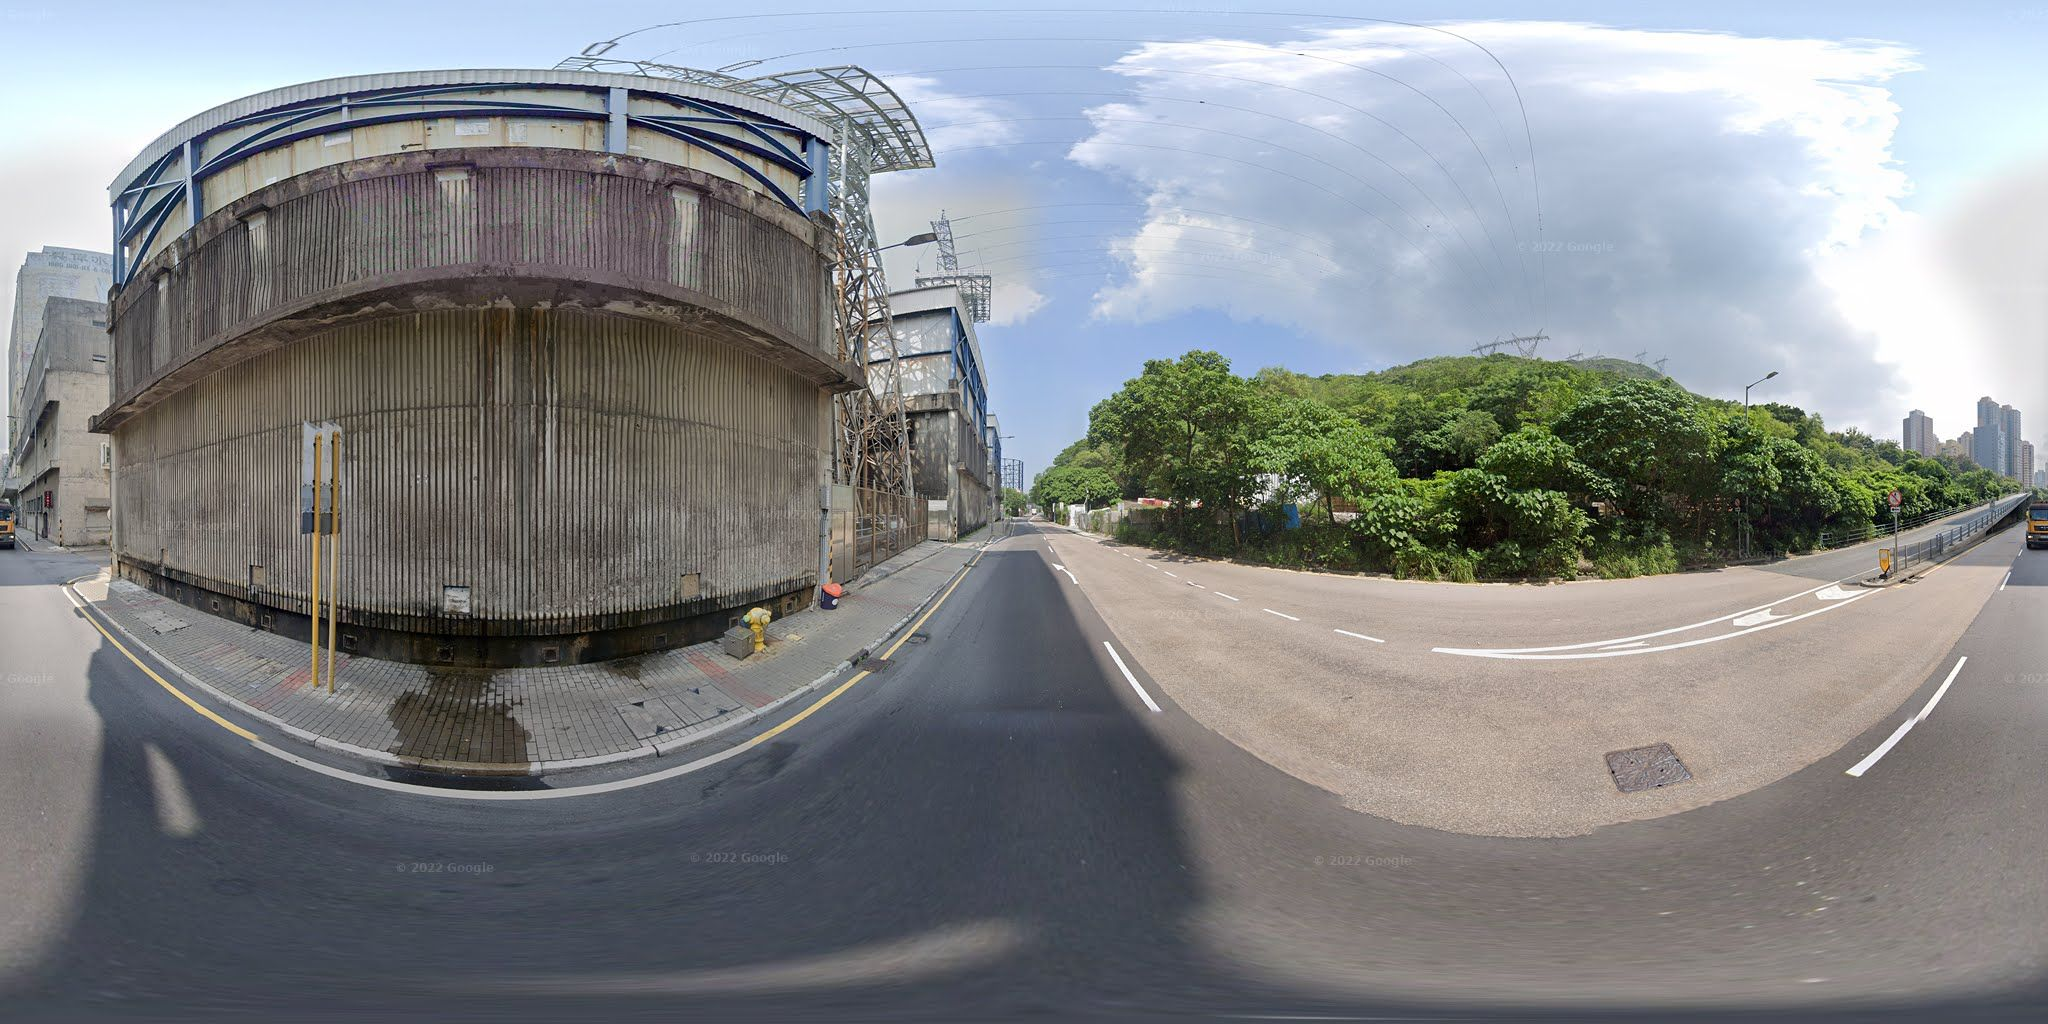SL: (819, 227, 943, 273)
